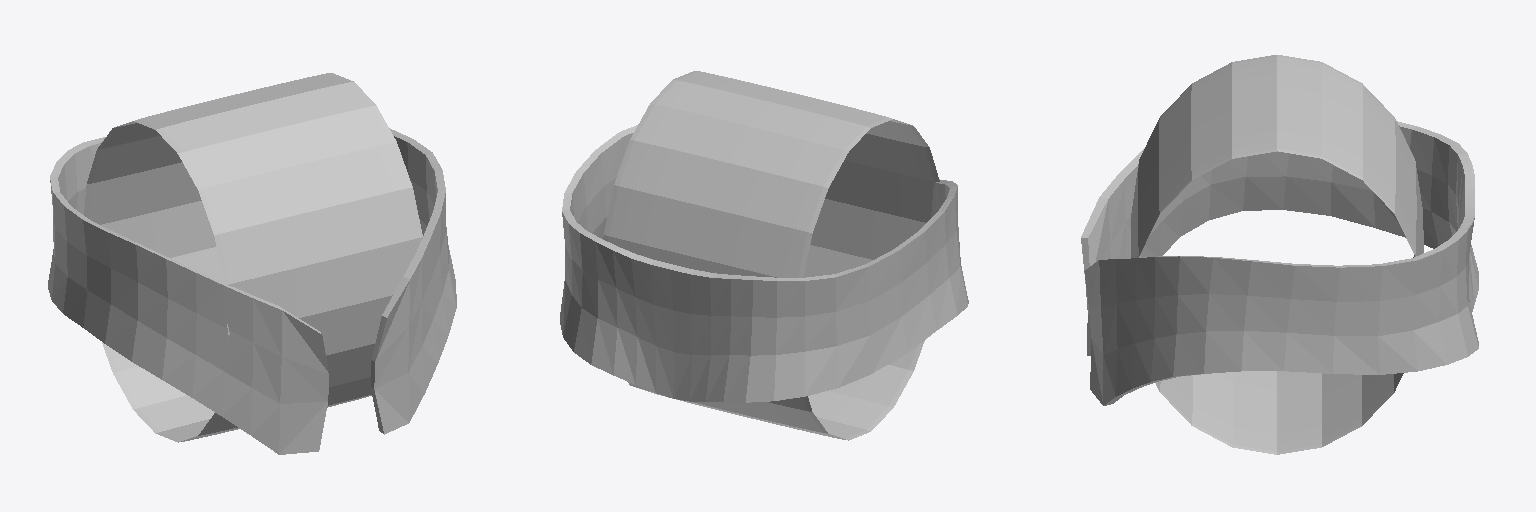
File: under.obj
The picture shows the model from 3 angles: view 1: azimuth 30°, elevation 25°; view 2: azimuth 150°, elevation 25°; view 3: azimuth 270°, elevation 25°; orthographic projection.
Parts seen in each view (by area): view 1: superman:polySurface2; view 2: superman:polySurface2; view 3: superman:polySurface2.
Part boxes in pixels (x1,y1,x2,y2): superman:polySurface2: (48,73,456,454); superman:polySurface2: (560,71,968,440); superman:polySurface2: (1081,55,1478,454).
Bounding box in the file's own units: 2.21 × 1.89 × 2.23.